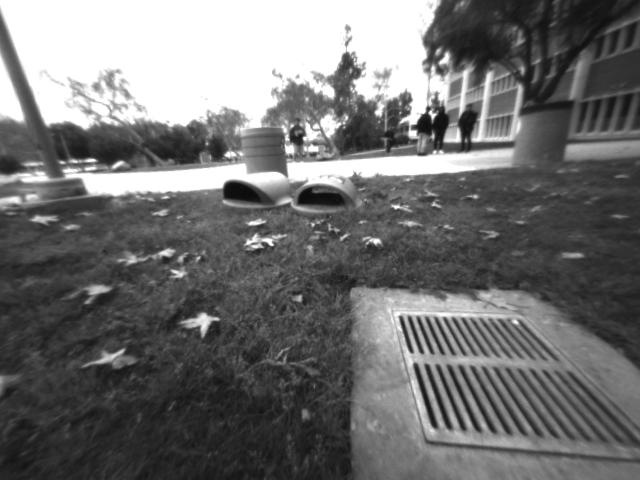trashcan: (519, 105, 574, 170), (235, 130, 293, 190)
